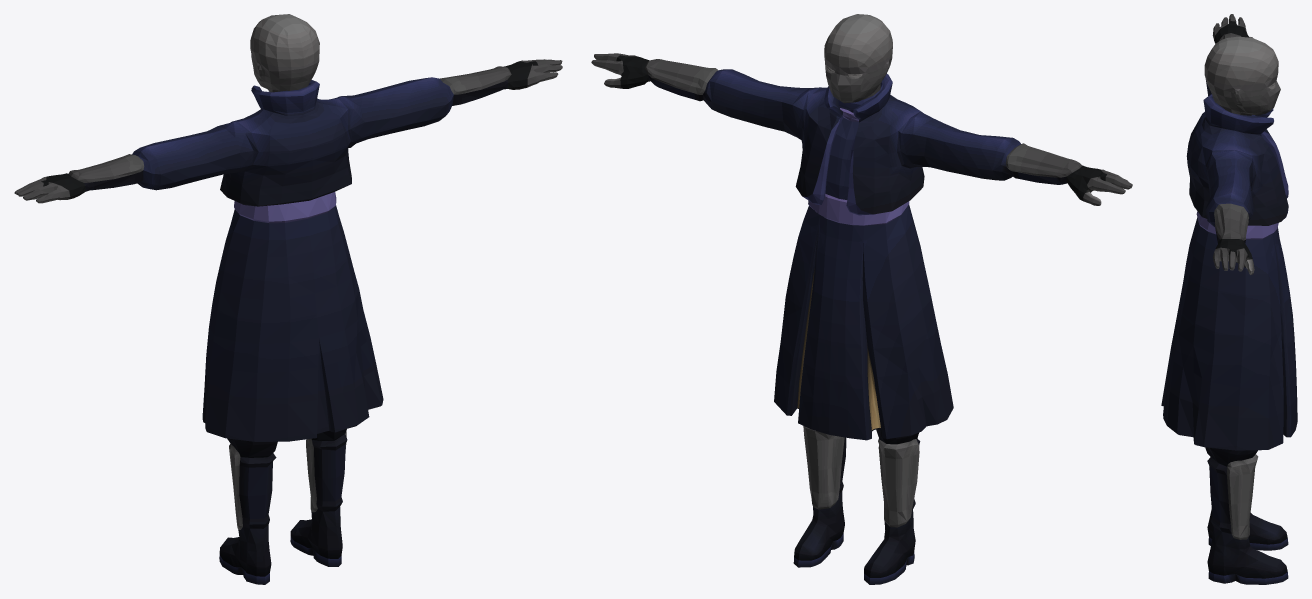
File: NPC_AP29ShortJacket.glb
3 renders of one model, left to right at view 1: azimuth 30°, elevation 25°; view 2: azimuth 150°, elevation 25°; view 3: azimuth 270°, elevation 25°, orthographic. The views are drawn at different scales.
Visible parts, largest first — view 1: NPC_AP29ShortJacket; view 2: NPC_AP29ShortJacket; view 3: NPC_AP29ShortJacket.
Part boxes in pixels (x1,y1,x2,y2): NPC_AP29ShortJacket: [14, 14, 562, 584]; NPC_AP29ShortJacket: [591, 14, 1132, 584]; NPC_AP29ShortJacket: [1161, 14, 1297, 584].
Bounding box in the file's own units: 14.21 × 13.63 × 3.23.
1 material, 1 textured.
